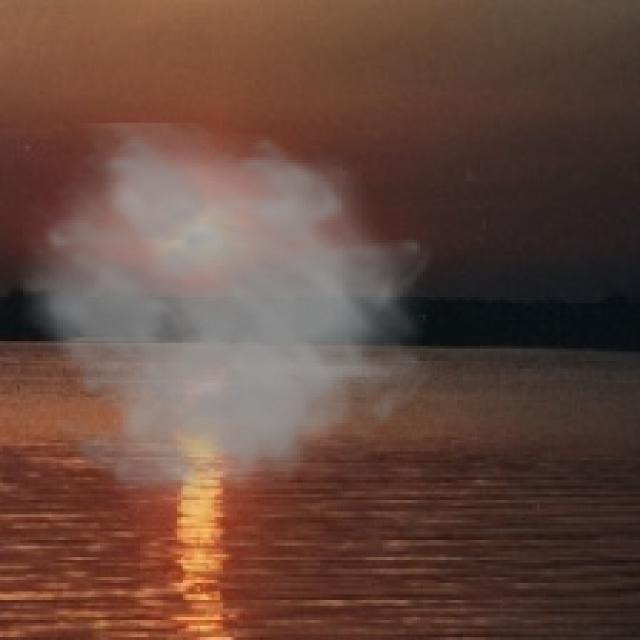smoke: (12, 123, 437, 531)
